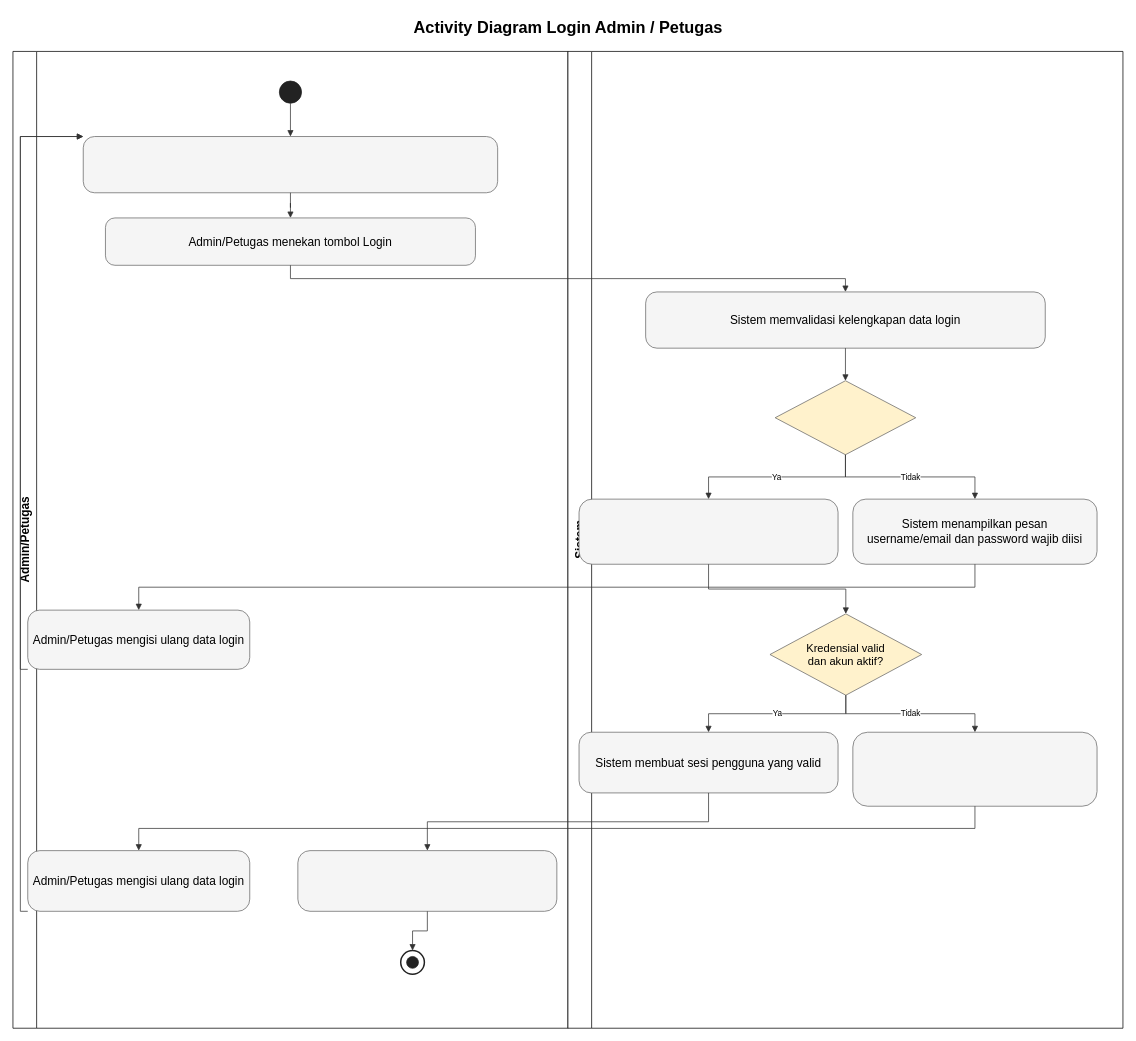
Some shapes in this 1136 by 1041 pixel diagram are drawn without their labels. Each missing label, with the box of its shape:
Admin/Petugas diarahkan ke Dashboard sesuai hak akses: (297, 850, 557, 911)
Admin/Petugas memasukkan username/email dan password: (83, 136, 498, 193)
Input login lengkap?: (774, 380, 916, 455)
Sistem memeriksa kredensial dan status akun: (578, 498, 838, 564)
Sistem menampilkan pesan kredensial tidak valid atau akun tidak aktif: (852, 731, 1097, 806)
